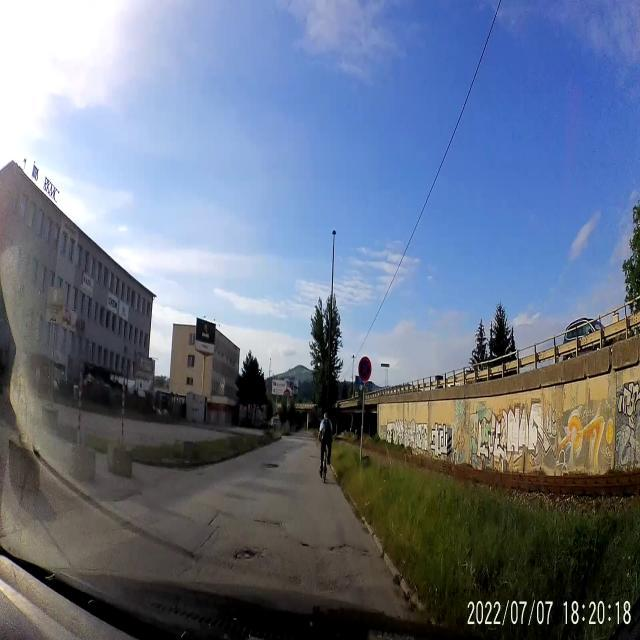Pothole: (327, 540, 367, 568), (232, 540, 262, 566), (251, 514, 283, 528), (262, 456, 280, 476)
